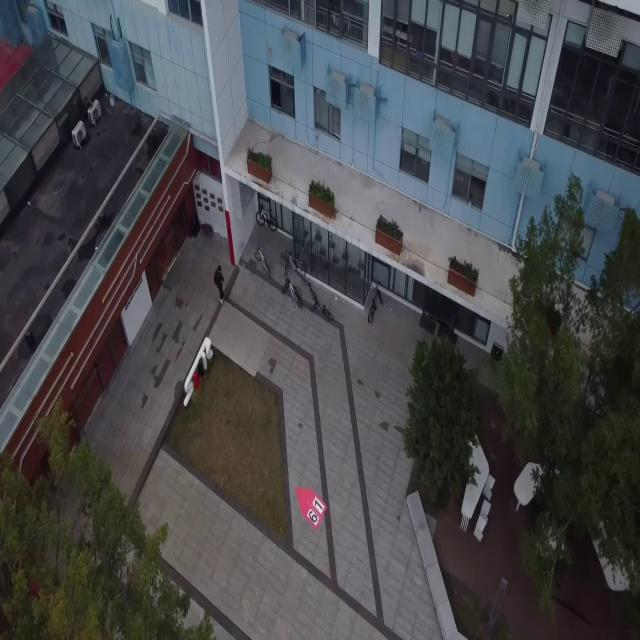-sign-: (295, 484, 327, 530)
